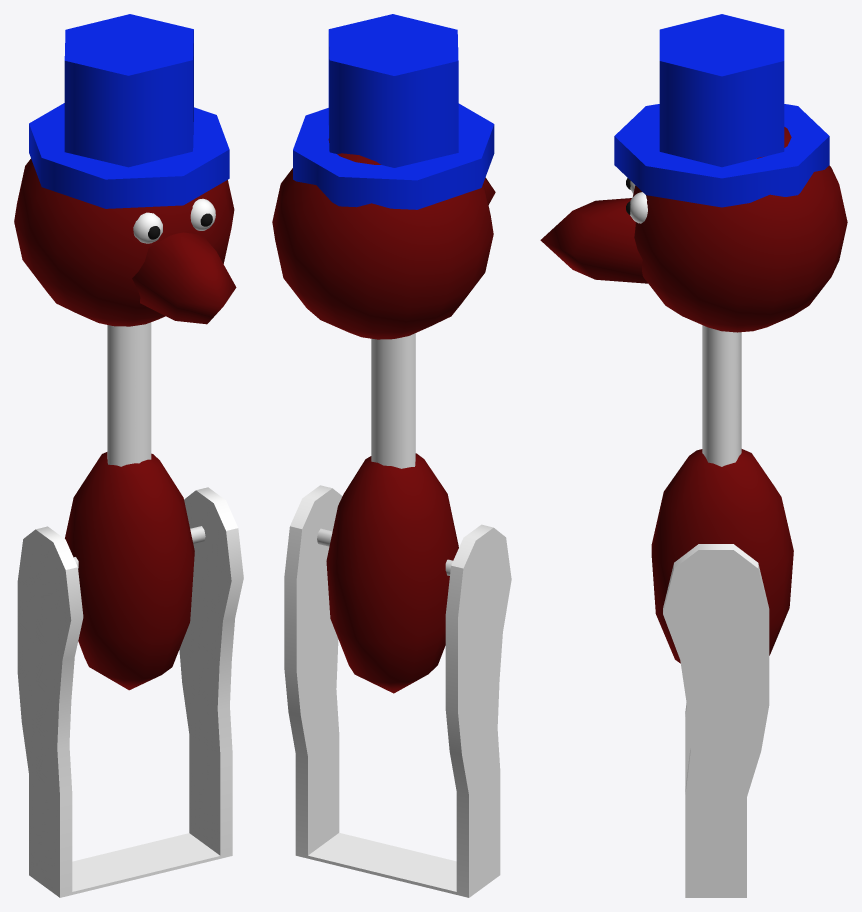
Rendered from moving bird.fbx.
3 views of the same model, side by side, from view 1: azimuth 30°, elevation 25°; view 2: azimuth 150°, elevation 25°; view 3: azimuth 270°, elevation 25° (orthographic).
Visible parts, largest first — view 1: Sphere003, Box022, Box023, Cylinder001; view 2: Sphere003, Box022, Box023, Cylinder001; view 3: Sphere003, Box022, Cylinder001.
Part boxes in pixels (box(x1,y1,x2,y2)): Sphere003: box(14, 14, 236, 690); Box022: box(71, 487, 243, 895); Box023: box(17, 526, 83, 897); Cylinder001: box(107, 322, 151, 466); Sphere003: box(272, 14, 495, 693); Box022: box(284, 485, 457, 894); Box023: box(445, 524, 511, 897); Cylinder001: box(371, 333, 415, 468); Sphere003: box(540, 14, 847, 663); Box022: box(663, 544, 769, 897); Cylinder001: box(702, 325, 741, 466).
Size of the model in its own units: 14.98 by 60.84 by 20.88.
